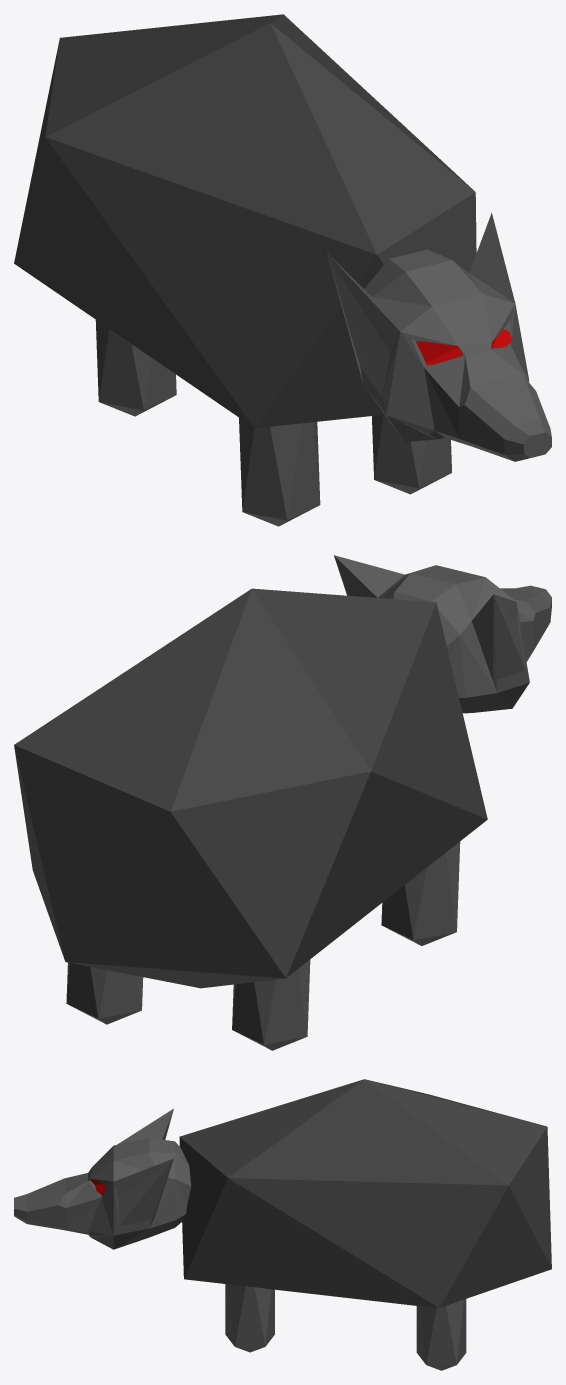
Rendered from wolf.obj.
The picture shows the model from 3 angles, top to bottom: view 1: azimuth 30°, elevation 25°; view 2: azimuth 150°, elevation 25°; view 3: azimuth 270°, elevation 25°; orthographic projection. The views are drawn at different scales.
Parts seen in each view (by area): view 1: Body, Head_Head.001, FrontRightLeg, BackRightLef_BackRightLeg, FrontLeftLeg; view 2: Body, Head_Head.001, FrontRightLeg, BackRightLef_BackRightLeg, BackLeftLeg; view 3: Body, Head_Head.001, BackLeftLeg, FrontLeftLeg.
Part boxes in pixels (x1,y1,x2,y2): Body: (14, 14, 476, 428); Head_Head.001: (327, 212, 551, 461); FrontRightLeg: (239, 418, 320, 526); BackRightLef_BackRightLeg: (95, 320, 176, 416); FrontLeftLeg: (372, 414, 451, 494); Body: (14, 588, 487, 988); Head_Head.001: (334, 555, 551, 713); FrontRightLeg: (381, 841, 460, 945); BackRightLef_BackRightLeg: (232, 959, 310, 1050); BackLeftLeg: (66, 962, 143, 1024); Body: (179, 1079, 551, 1307); Head_Head.001: (14, 1108, 191, 1249); BackLeftLeg: (416, 1299, 466, 1370); FrontLeftLeg: (225, 1284, 274, 1352).
Size of the model in its own units: 2.2 by 2.64 by 4.85.
4 materials, 3 textured.
